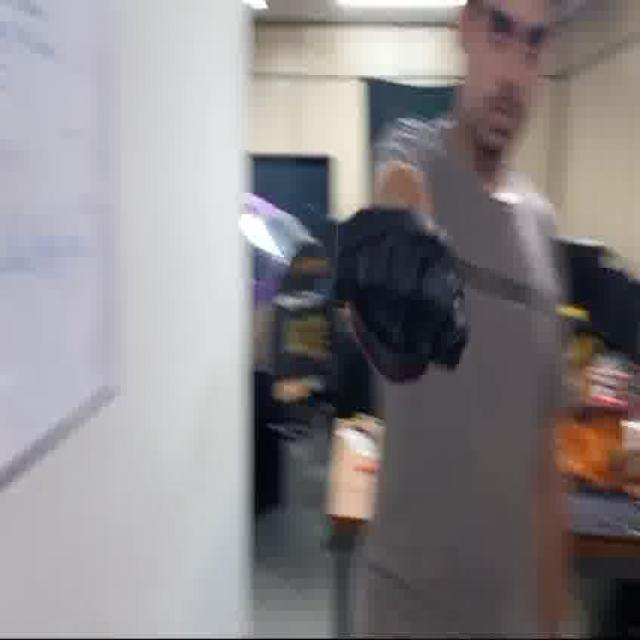Gloves: (327, 182, 467, 394)
